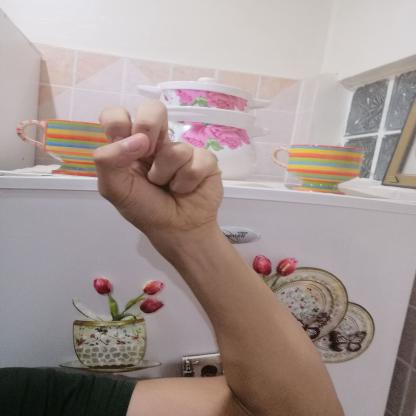QAAF: (81, 90, 247, 246)
